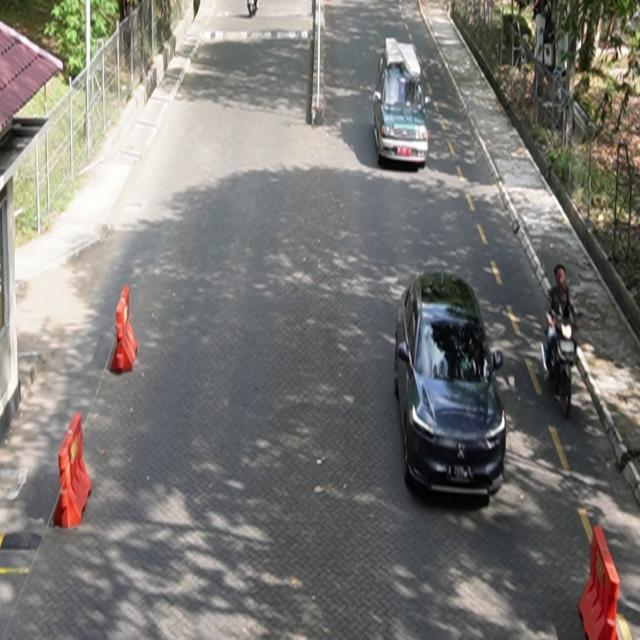car: (395, 269, 508, 503), (374, 38, 430, 168)
